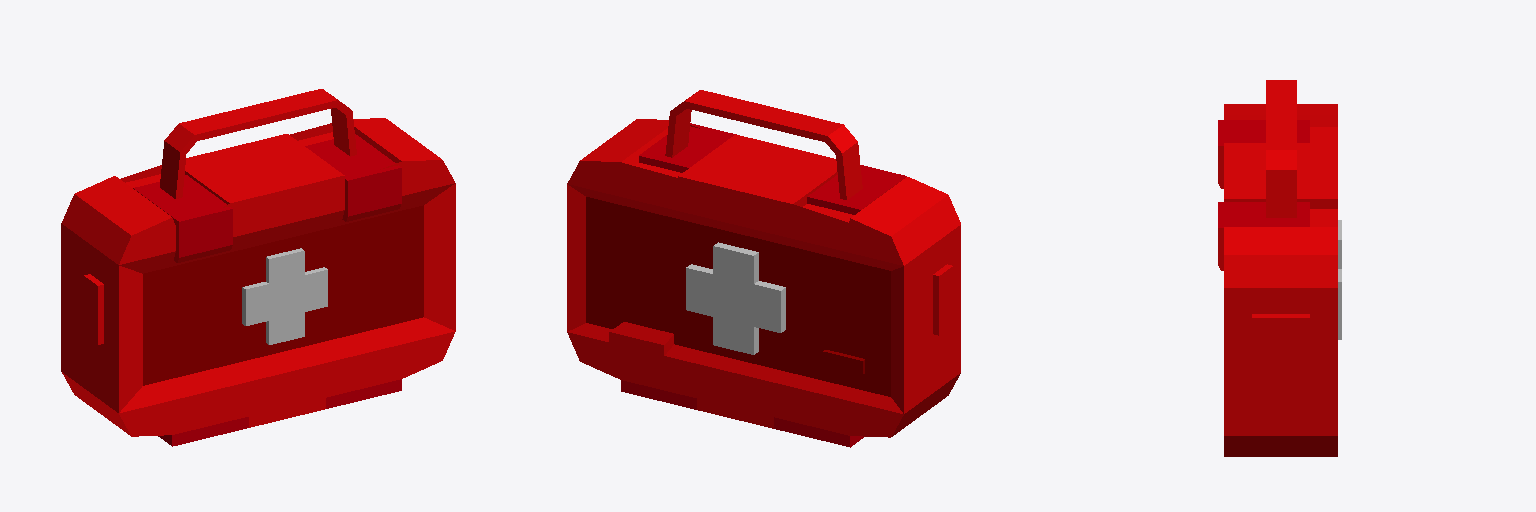
File: medkitlarge.obj
3 renders of one model, left to right at view 1: azimuth 30°, elevation 25°; view 2: azimuth 150°, elevation 25°; view 3: azimuth 270°, elevation 25°, orthographic.
Parts seen in each view (by area): view 1: Cube.001, Plane.006, Plane.007; view 2: Cube.001, Plane.005, Plane.006; view 3: Cube.001, Plane.006.
Part boxes in pixels (bbox=[...]): Cube.001: bbox=[61, 118, 455, 446]; Plane.006: bbox=[160, 89, 356, 198]; Plane.007: bbox=[242, 248, 327, 344]; Cube.001: bbox=[567, 119, 960, 447]; Plane.005: bbox=[686, 242, 785, 354]; Plane.006: bbox=[665, 90, 862, 199]; Cube.001: bbox=[1218, 104, 1337, 456]; Plane.006: bbox=[1266, 80, 1296, 217].
Bounding box in the file's own units: 4.89 × 3.89 × 1.54.